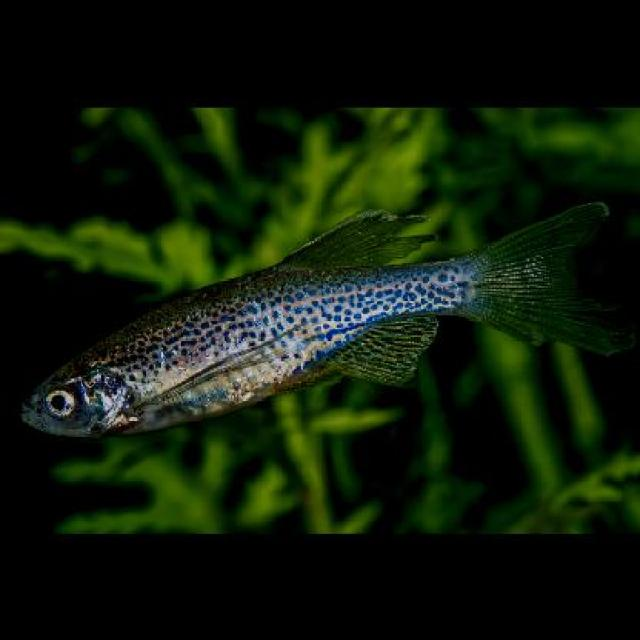ZebraFish: (16, 194, 630, 437)
